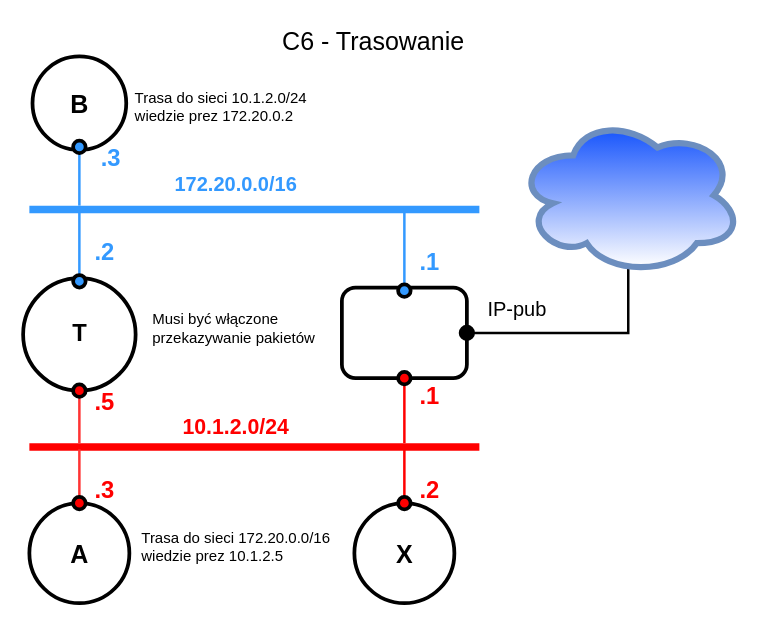
The diagram is 766 pixels wide and 626 high, and some of its shapes have lost their labels. Here are the shapes that lost their labels. From the top down, the centre of each, then its label:
At pixel 628 195: "Internet".
At pixel 403 332: "Trasownik".
